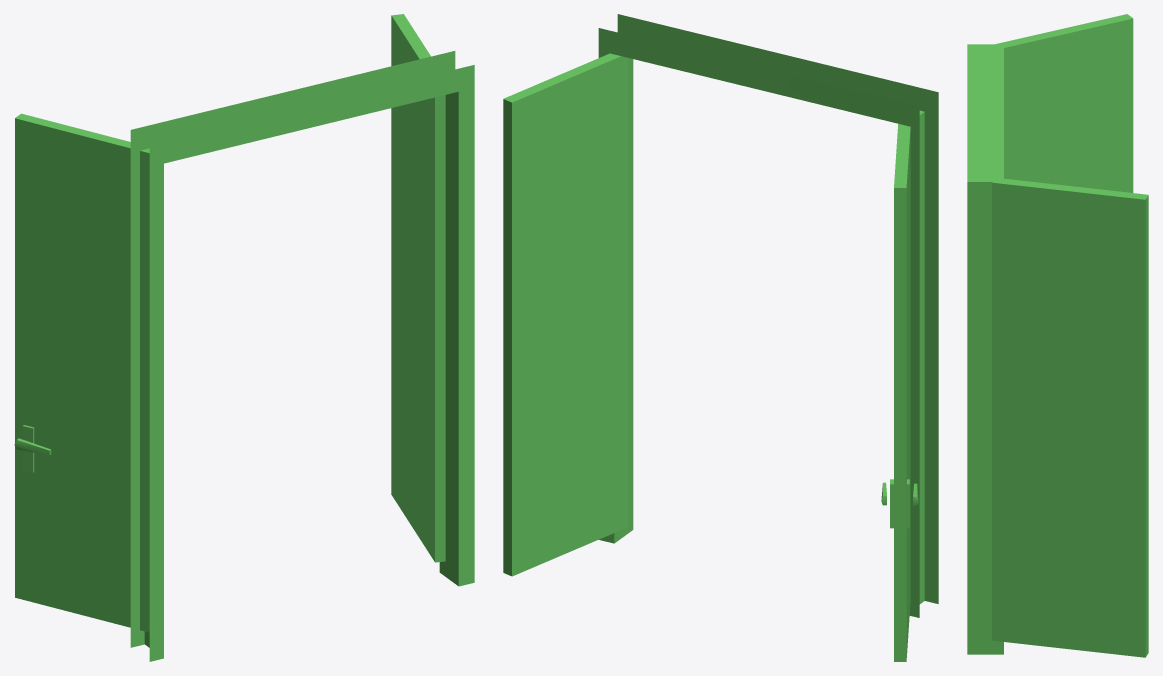
File: Gen_Door_A_Open.fbx
The picture shows the model from 3 angles, left to right: view 1: azimuth 30°, elevation 25°; view 2: azimuth 150°, elevation 25°; view 3: azimuth 270°, elevation 25°; orthographic projection. The views are drawn at different scales.
Visible parts, largest first — view 1: Gen_Door_A_Open; view 2: Gen_Door_A_Open; view 3: Gen_Door_A_Open.
Part boxes in pixels (left/top/right/bottom): Gen_Door_A_Open: left=14, top=14, right=474, bottom=661; Gen_Door_A_Open: left=503, top=14, right=938, bottom=661; Gen_Door_A_Open: left=967, top=14, right=1148, bottom=657.
Bounding box in the file's own units: 274 × 335 × 111.
